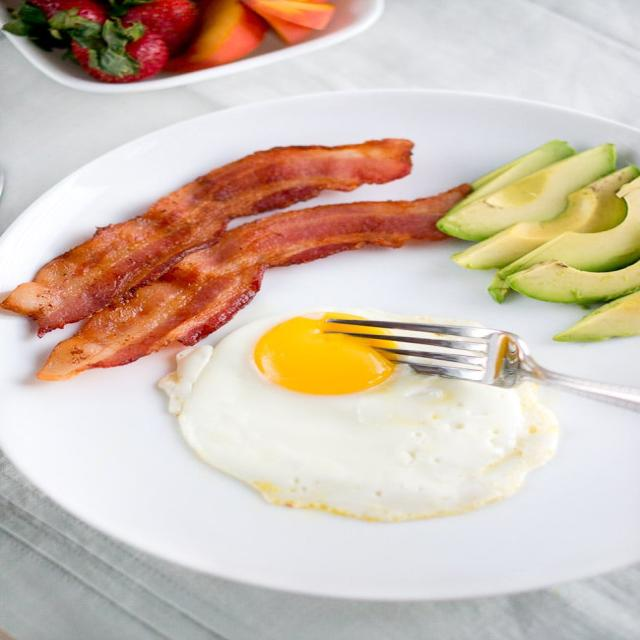Bacon: (38, 186, 466, 380), (2, 139, 414, 336)
Egg: (160, 312, 559, 521)
